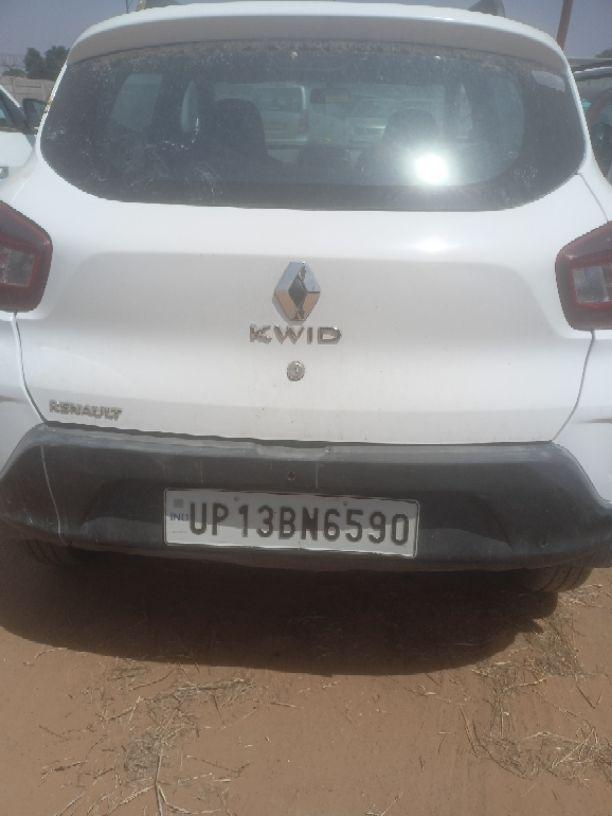license_plate: (161, 486, 421, 559)
